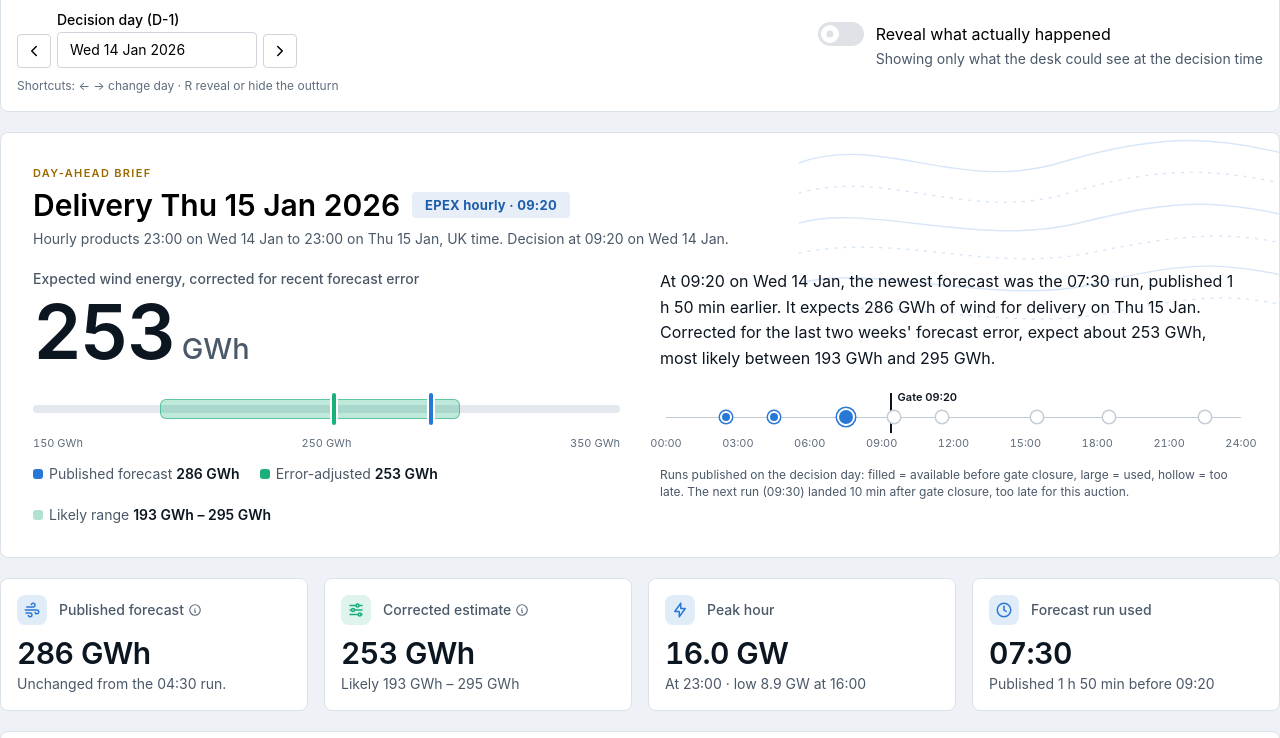
Scenario: BriefPage › reveals the outturn on request
Check: the text with test id "brief-headline" is shown, box [660,269,1247,371]
Click the switch labelled "Reveal what actually happened" at [1040, 45], box [818,22,1263,68]
(page scrolled)
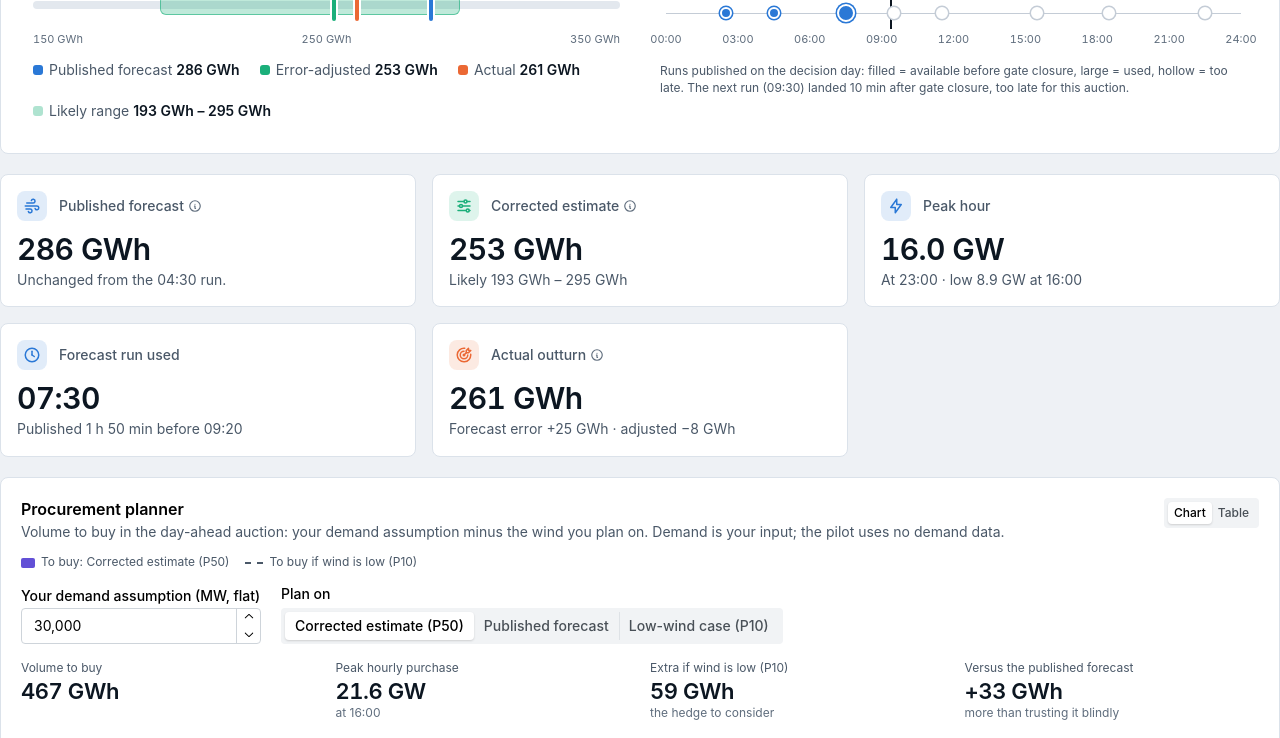
Check: the element "Actual outturn" shows "GWh", box [449,380,582,416]
